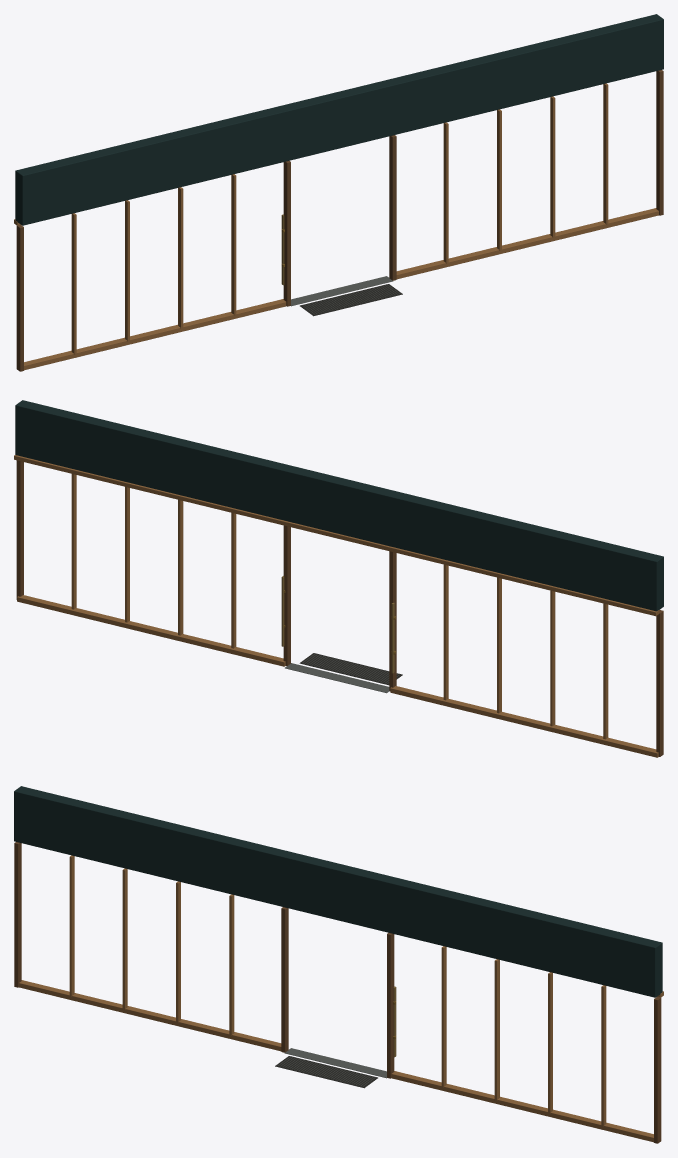
The model's file is entry.glb.
3 views of the same model, one above another, from view 1: azimuth 30°, elevation 25°; view 2: azimuth 150°, elevation 25°; view 3: azimuth 330°, elevation 25° (orthographic).
Visible parts, largest first — view 1: Tianjin_entry; view 2: Tianjin_entry; view 3: Tianjin_entry.
Part boxes in pixels (x1=…): Tianjin_entry: x1=14, y1=14, x2=663, y2=371; Tianjin_entry: x1=14, y1=400, x2=663, y2=757; Tianjin_entry: x1=14, y1=786, x2=663, y2=1143.
Bounding box in the file's own units: 12.07 × 3.54 × 0.7606.
